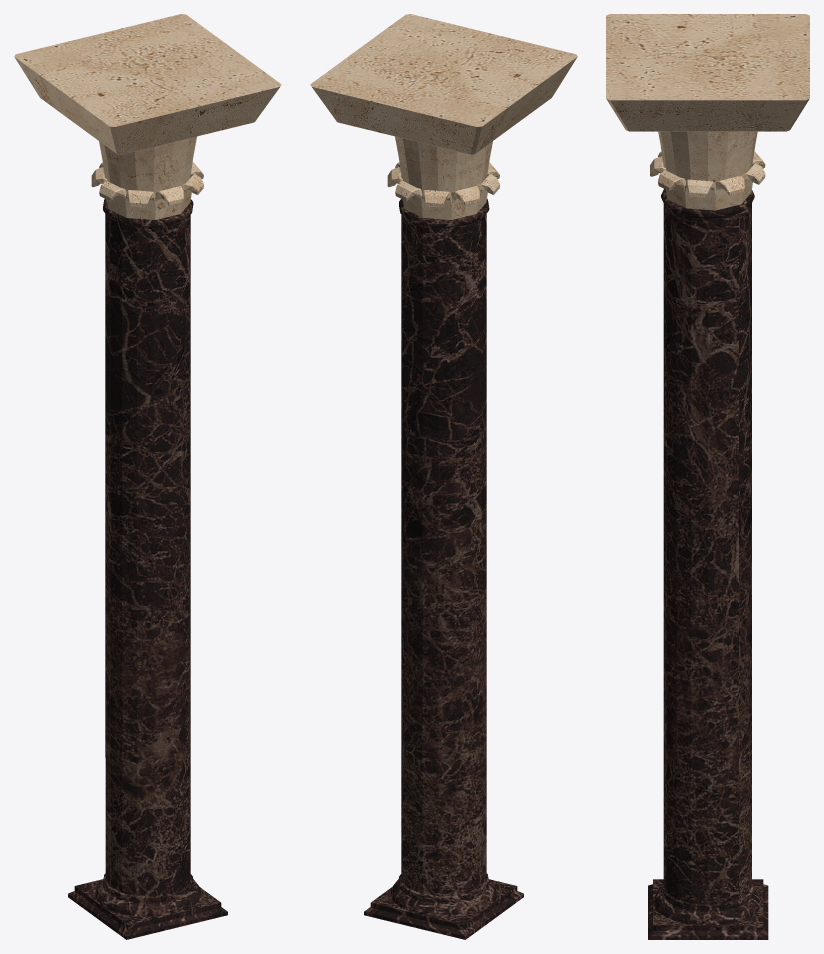
Rendered from Cordoba_Support1.fbx.
3 renders of one model, left to right at view 1: azimuth 30°, elevation 25°; view 2: azimuth 150°, elevation 25°; view 3: azimuth 270°, elevation 25°, orthographic. The views are drawn at different scales.
Visible parts, largest first — view 1: polySurface101, polySurface115, polySurface105, polySurface102, polySurface103; view 2: polySurface101, polySurface115, polySurface105, polySurface102, polySurface103; view 3: polySurface101, polySurface115, polySurface105, polySurface103, polySurface102.
Boxes of the visible parts, x1,y1,x2,y2 form: polySurface101: (95, 199, 201, 916); polySurface115: (14, 14, 281, 154); polySurface105: (99, 136, 196, 194); polySurface102: (68, 879, 227, 939); polySurface103: (91, 162, 203, 219); polySurface101: (391, 198, 496, 916); polySurface115: (310, 14, 577, 154); polySurface105: (395, 136, 492, 194); polySurface102: (364, 879, 523, 939); polySurface103: (387, 162, 499, 219); polySurface101: (653, 189, 762, 925); polySurface115: (606, 14, 809, 131); polySurface105: (658, 131, 757, 183); polySurface103: (650, 151, 765, 210); polySurface102: (648, 879, 768, 939).
Bounding box in the file's own units: 74.75 × 347 × 74.75.
